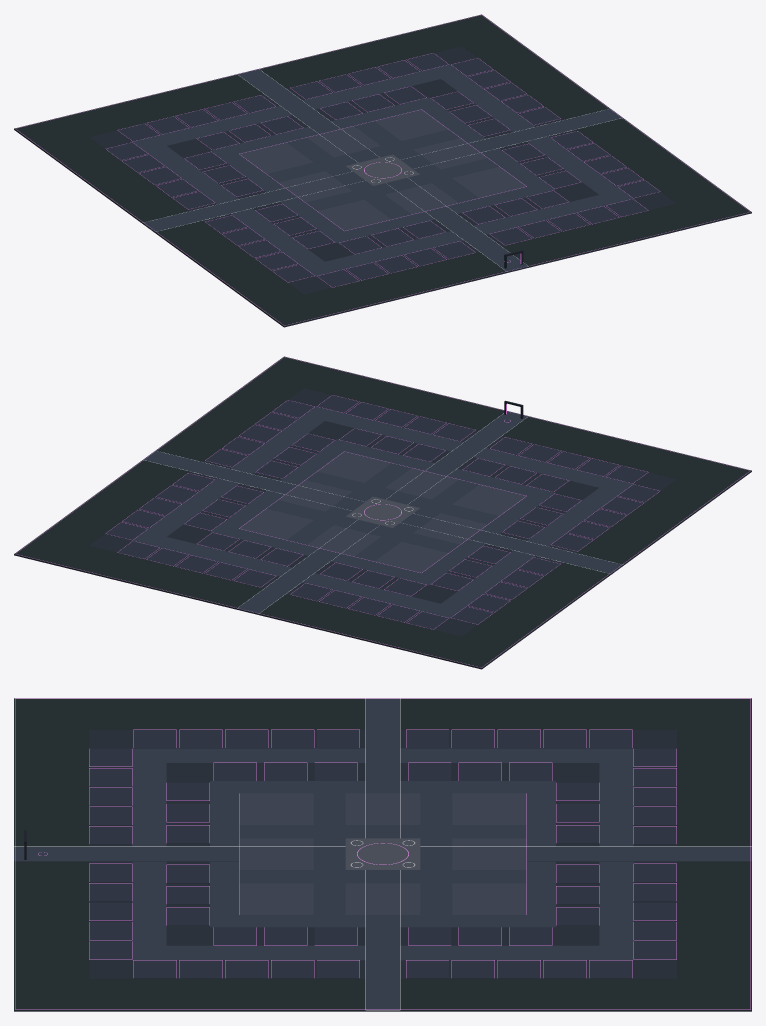
3 views of the same model, one above another, from view 1: azimuth 30°, elevation 25°; view 2: azimuth 150°, elevation 25°; view 3: azimuth 270°, elevation 25° (orthographic). The views are drawn at different scales.
Parts seen in each view (by area): view 1: district_pixel.lod1; view 2: district_pixel.lod1; view 3: district_pixel.lod1.
Part boxes in pixels (box(x1,y1,x2,y2)): district_pixel.lod1: box(14, 14, 751, 327); district_pixel.lod1: box(14, 356, 751, 669); district_pixel.lod1: box(14, 698, 751, 1011).
Bounding box in the file's own units: 256 × 7.62 × 256.
